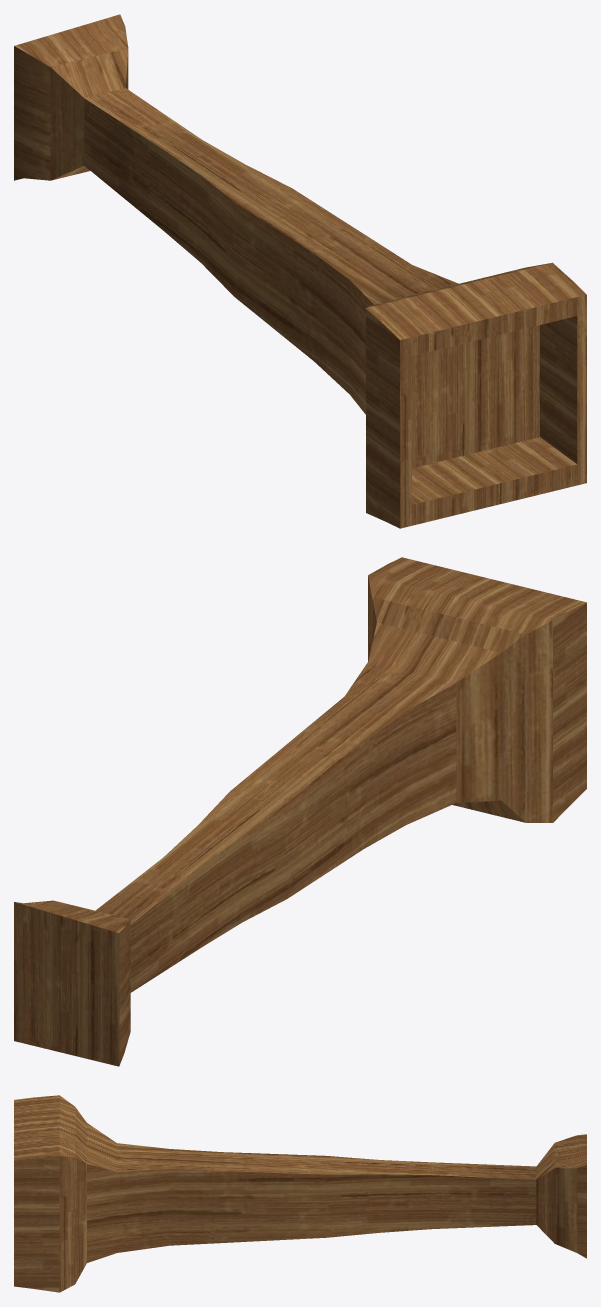
Rendered from torch.FBX.
3 renders of one model, top to bottom at view 1: azimuth 30°, elevation 25°; view 2: azimuth 150°, elevation 25°; view 3: azimuth 270°, elevation 25°, orthographic. The views are drawn at different scales.
Visible parts, largest first — view 1: Box080; view 2: Box080; view 3: Box080.
Part boxes in pixels (x1=…): Box080: x1=14, y1=14, x2=586, y2=528; Box080: x1=14, y1=557, x2=586, y2=1066; Box080: x1=14, y1=1095, x2=586, y2=1292.
Bounding box in the file's own units: 24.29 × 25.42 × 96.66.
Materials: 1 (1 with a texture image).
